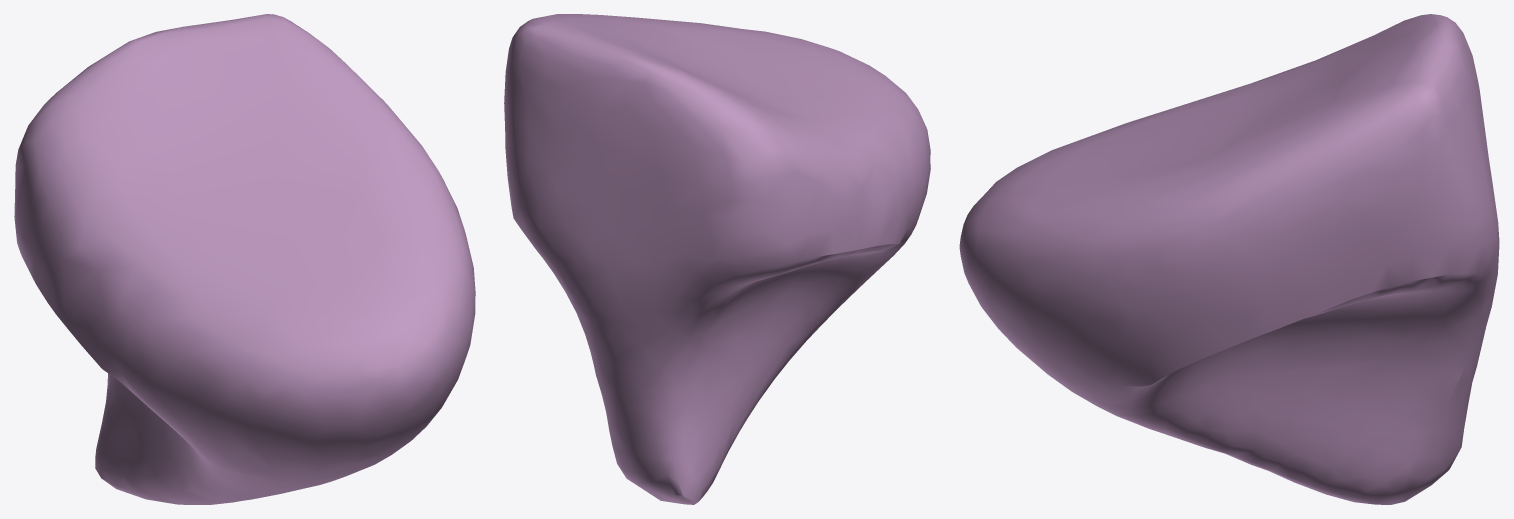
3 views of the same model, side by side, from view 1: azimuth 30°, elevation 25°; view 2: azimuth 150°, elevation 25°; view 3: azimuth 270°, elevation 25° (orthographic). The views are drawn at different scales.
Parts seen in each view (by area): view 1: 蚓垂; view 2: 蚓垂; view 3: 蚓垂.
Part boxes in pixels (x1,y1,x2,y2): 蚓垂: (14, 14, 475, 504); 蚓垂: (504, 14, 930, 504); 蚓垂: (959, 14, 1499, 504).
Size of the model in its own units: 0.0188 by 0.0232 by 0.0241.
